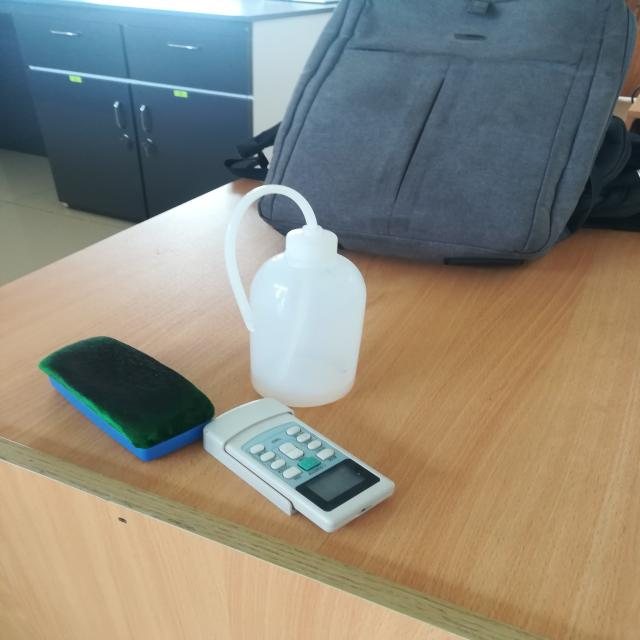Wash_Bottle: (196, 155, 430, 438)
